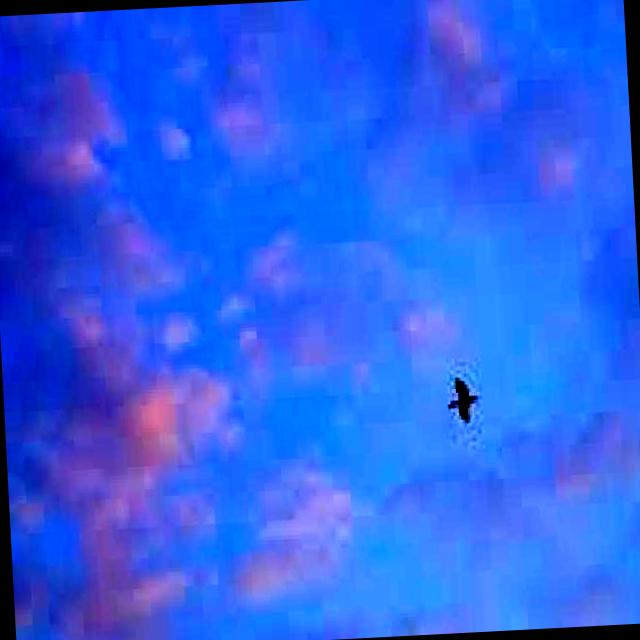bird: (448, 372, 479, 421)
